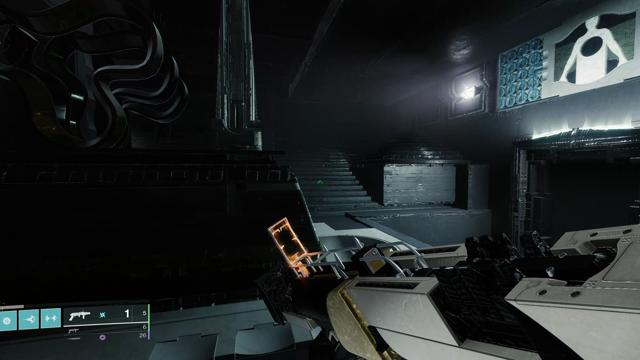grief: (554, 11, 636, 85)
